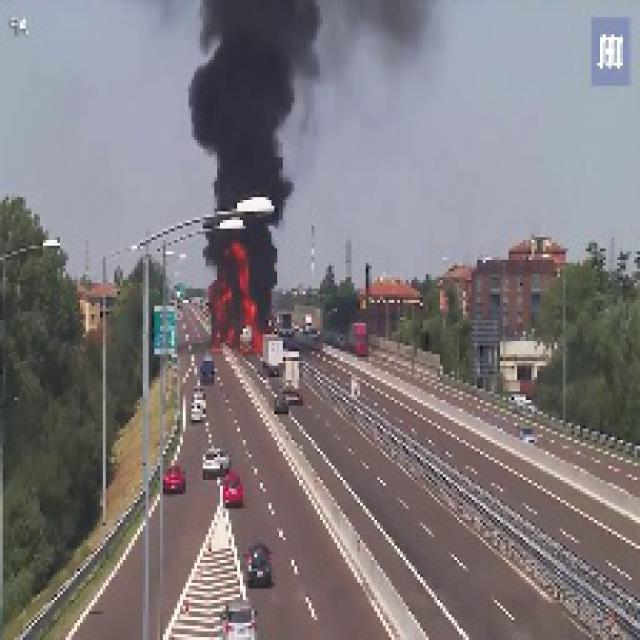fire: (208, 237, 268, 357)
